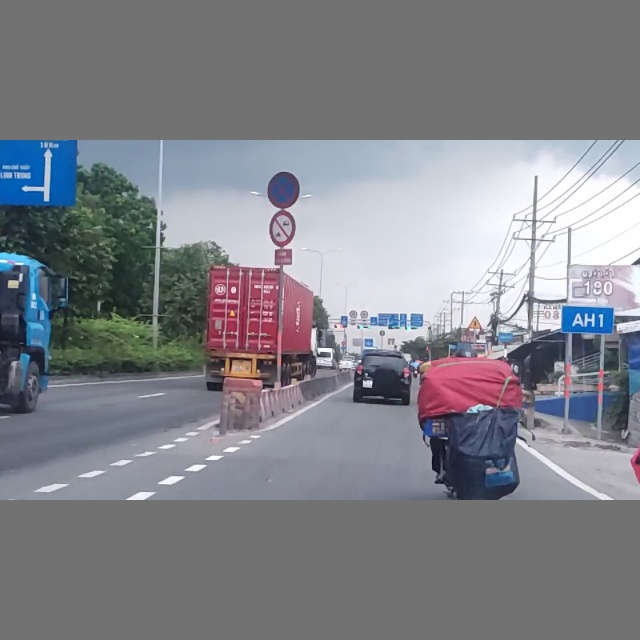P.111: (269, 211, 296, 245)
P.130: (267, 172, 300, 208)
